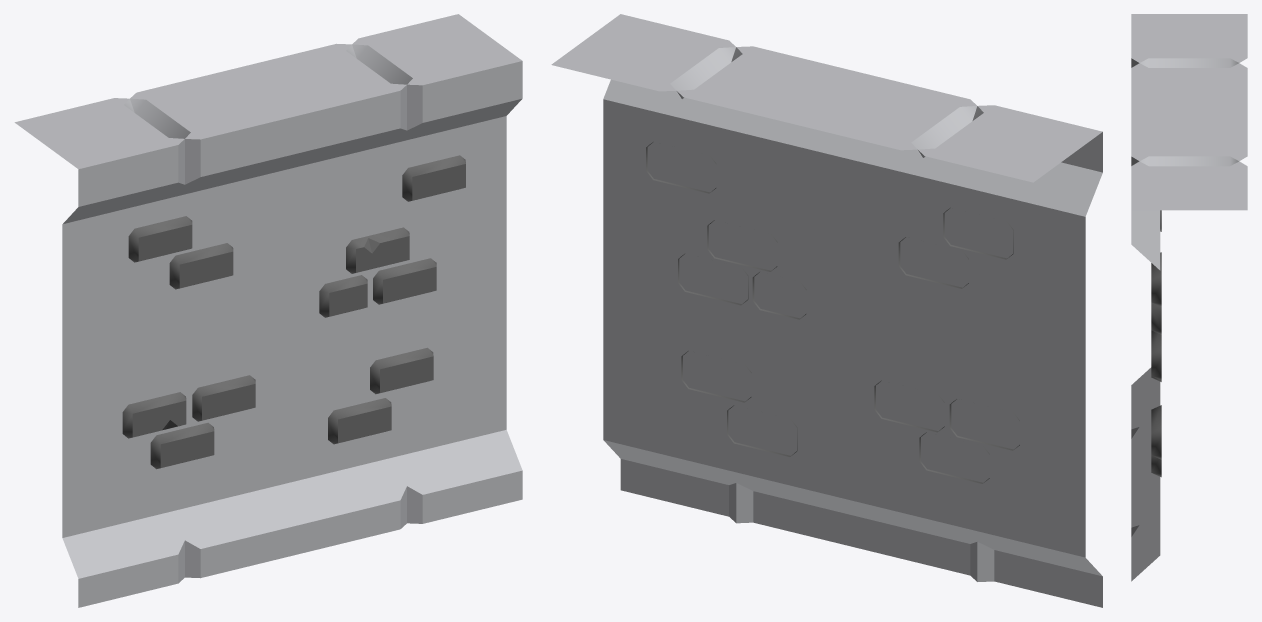
File: Wall.fbx
The picture shows the model from 3 angles, left to right: view 1: azimuth 30°, elevation 25°; view 2: azimuth 150°, elevation 25°; view 3: azimuth 270°, elevation 25°; orthographic projection. The views are drawn at different scales.
Visible parts, largest first — view 1: Wall.001; view 2: Wall.001; view 3: Wall.001.
Boxes of the visible parts, box(x1,y1,x2,y2) form: Wall.001: box(14, 14, 522, 607); Wall.001: box(551, 14, 1102, 607); Wall.001: box(1131, 14, 1247, 581).
Bounding box in the file's own units: 1.47 × 1.39 × 0.3681.
Materials: 1 (1 with a texture image).
